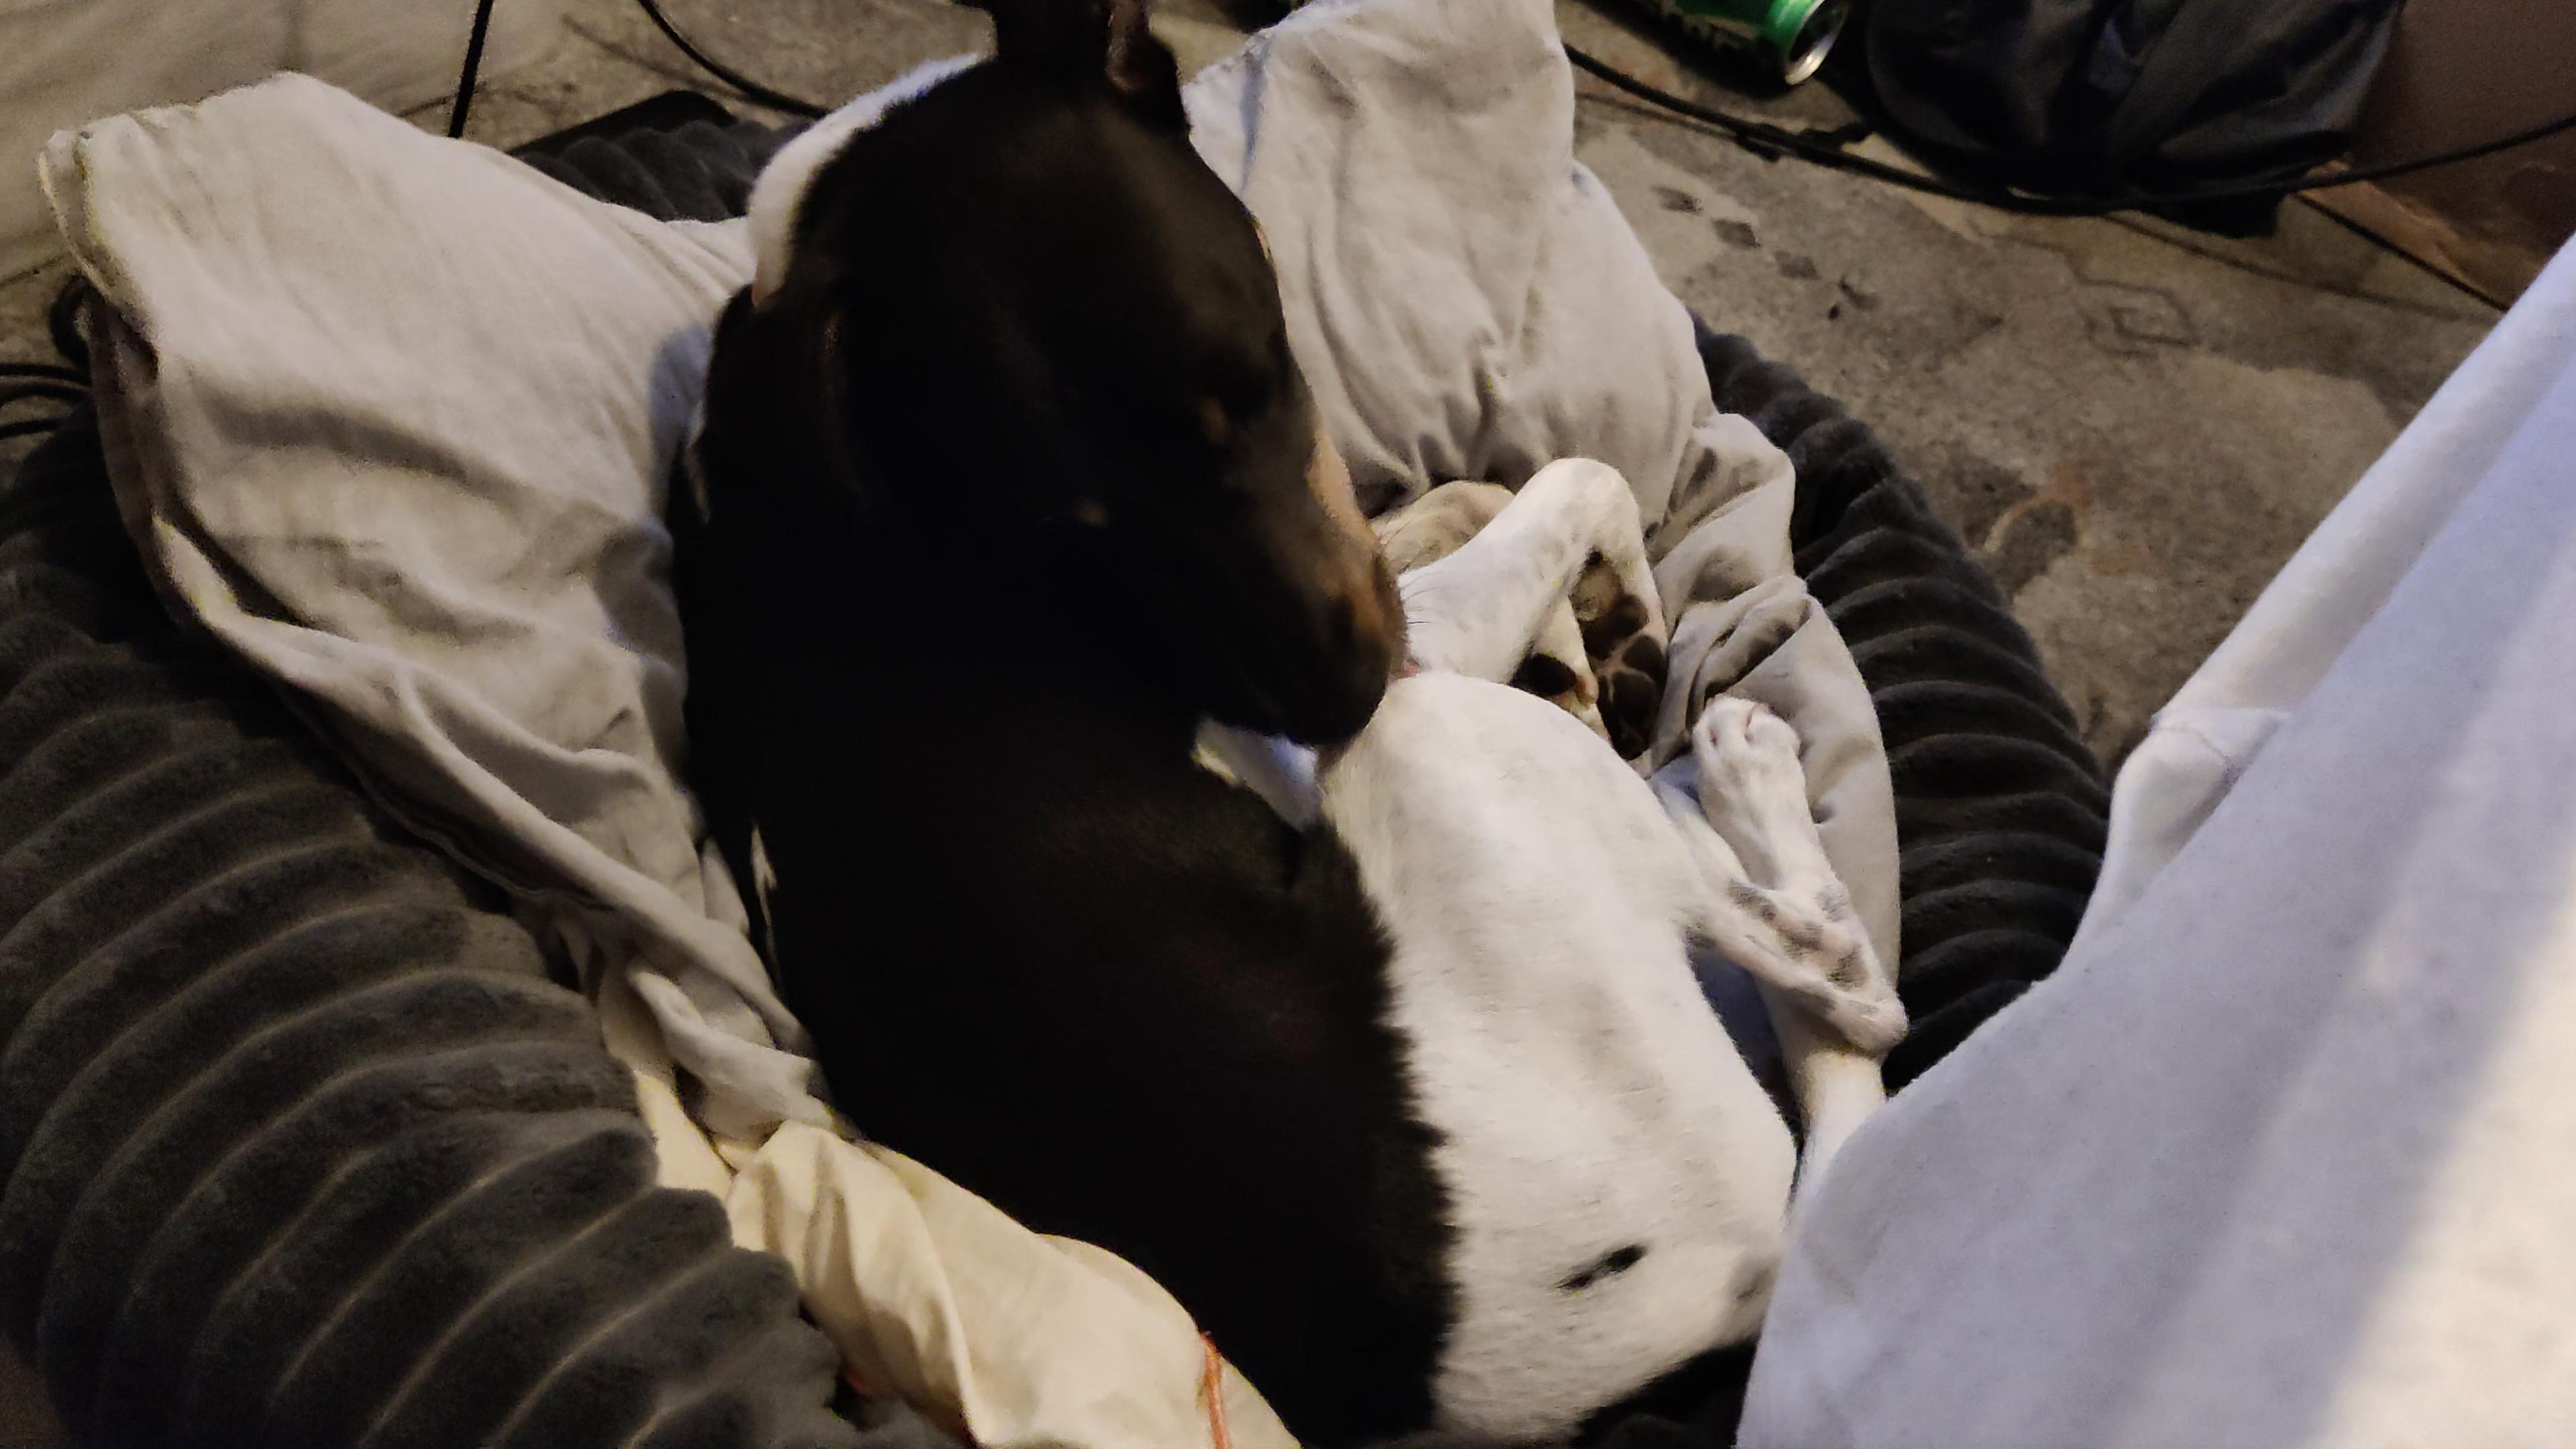Dog: (623, 0, 1939, 1449)
